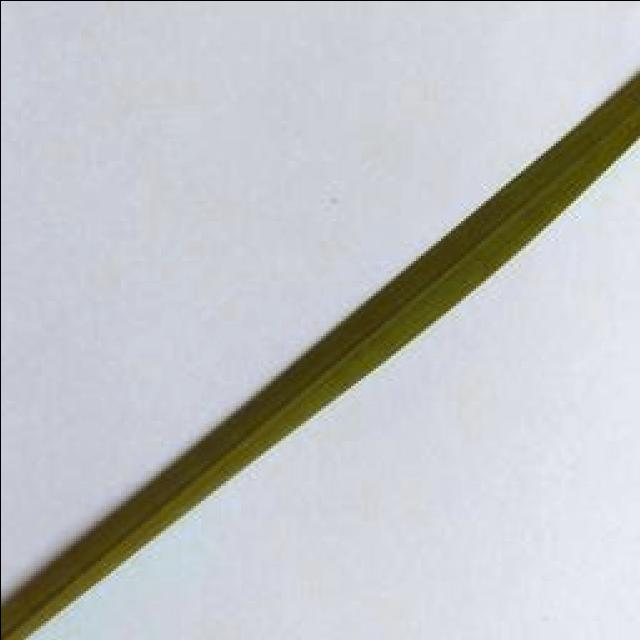Healthy: (0, 72, 640, 640)
